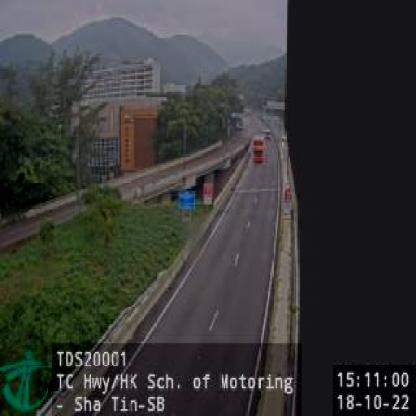Bus: (252, 136, 266, 164)
